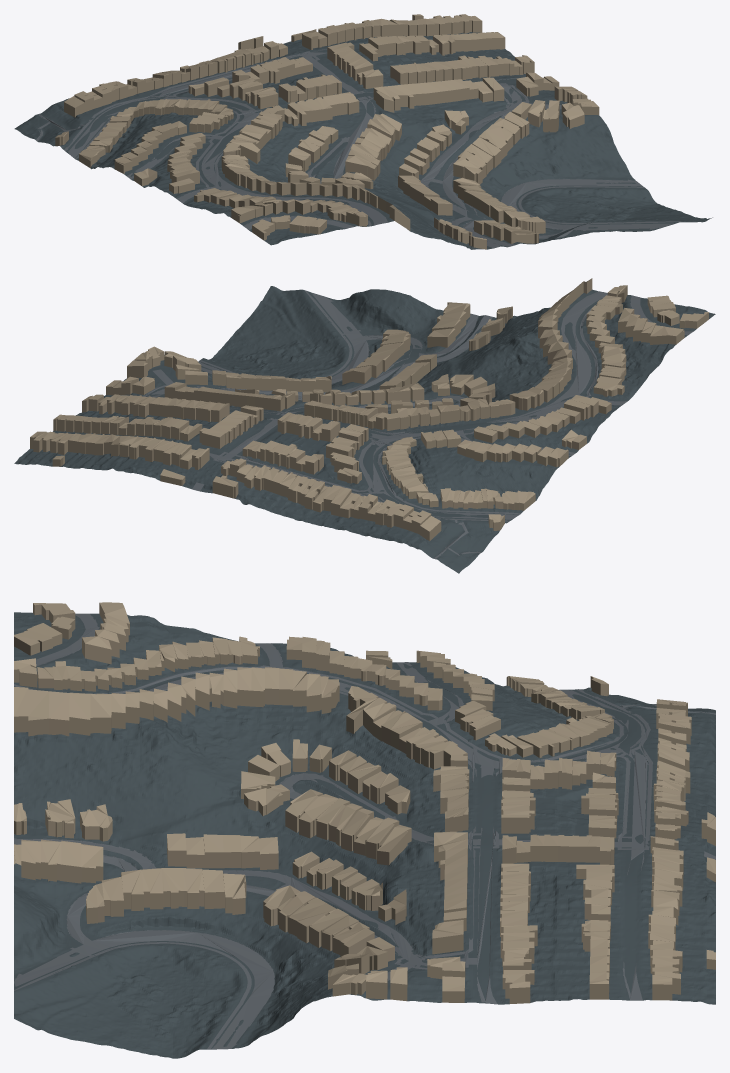
The model's file is epsg26910-1429-10876.lod0.glb.
3 renders of one model, top to bottom at view 1: azimuth 30°, elevation 25°; view 2: azimuth 150°, elevation 25°; view 3: azimuth 270°, elevation 25°, orthographic. The views are drawn at different scales.
Visible parts, largest first — view 1: epsg26910-1429-10876-lod0; view 2: epsg26910-1429-10876-lod0; view 3: epsg26910-1429-10876-lod0.
Part boxes in pixels (x1,y1,x2,y2): epsg26910-1429-10876-lod0: (14, 14, 712, 249); epsg26910-1429-10876-lod0: (14, 278, 715, 573); epsg26910-1429-10876-lod0: (14, 602, 715, 1058).
Size of the model in its own units: 384 by 98.42 by 384.
